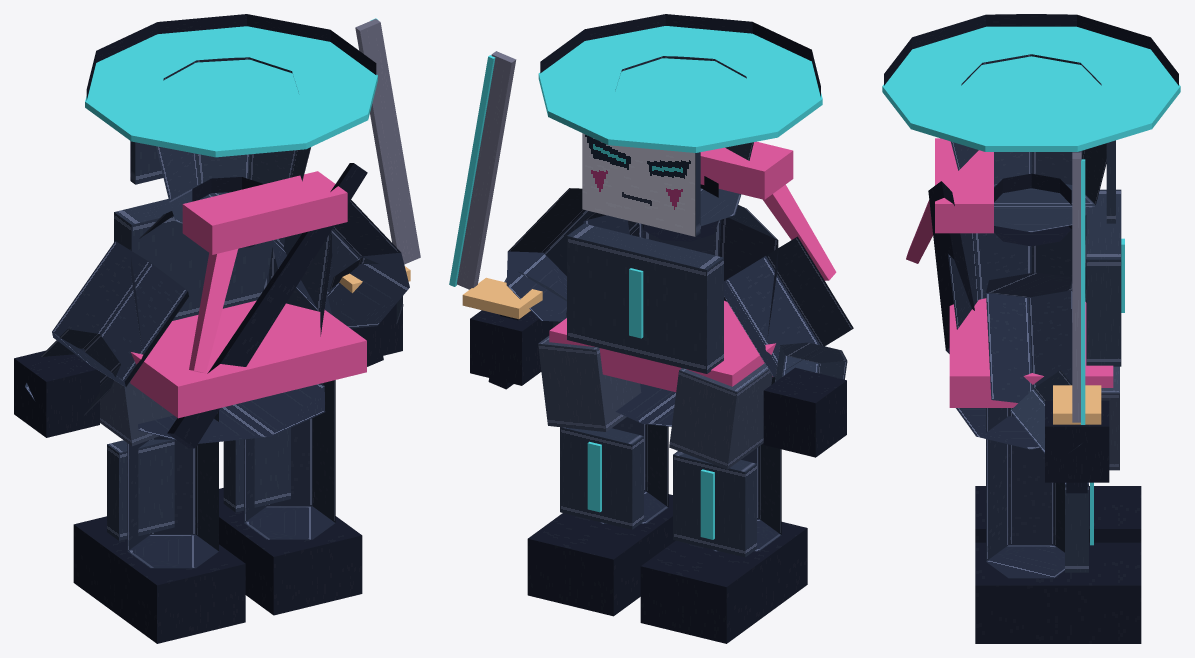
The model's file is cyber_ronin.glb.
3 views of the same model, side by side, from view 1: azimuth 30°, elevation 25°; view 2: azimuth 150°, elevation 25°; view 3: azimuth 270°, elevation 25° (orthographic). The views are drawn at different scales.
Parts seen in each view (by area): view 1: Head_neon_hat_rim, Root_belt, Leg_L_boot, Leg_R_boot, Arm_L, Head_scarf, Leg_L, Leg_R, Root_chest_plate, Root_tunic, Arm_R, Arm_L_hand (+12 smaller); view 2: Head_neon_hat_rim, Root_chest_plate, Leg_L_boot, Leg_R_boot, Arm_L, Head_painted_face, Root_skirt_plate, Leg_R_shin, Leg_L_shin, Root_skirt_plate.001, Arm_L_hand, Root_tunic (+17 smaller); view 3: Head_neon_hat_rim, Leg_R_boot, Leg_R, Arm_R, Root_tunic, Head_helmet, Root_chest_plate, Root_belt, Head_scarf, Arm_R_hand, Head_kasa, Leg_L_boot (+10 smaller).
Part boxes in pixels (x1,y1,x2,y2): Head_neon_hat_rim: (85,26,377,157); Root_belt: (130,300,366,418); Leg_L_boot: (73,516,245,643); Leg_R_boot: (219,488,362,615); Arm_L: (52,241,188,387); Head_scarf: (182,171,347,254); Leg_L: (127,411,218,568); Leg_R: (244,380,335,539); Root_chest_plate: (114,199,272,320); Root_tunic: (130,211,332,443); Arm_R: (271,200,409,328); Arm_L_hand: (14,350,99,437); Head_neon_hat_rim: (538,26,822,152); Root_chest_plate: (567,223,723,373); Leg_L_boot: (640,522,807,643); Leg_R_boot: (527,494,675,616); Arm_L: (724,236,853,377); Head_painted_face: (582,133,695,236); Root_skirt_plate: (669,363,772,469); Leg_R_shin: (560,427,643,529); Leg_L_shin: (673,451,756,557); Root_skirt_plate.001: (538,336,641,431); Arm_L_hand: (763,367,846,457); Root_tunic: (583,205,778,426); Head_neon_hat_rim: (882,26,1180,151); Leg_R_boot: (975,542,1141,643); Leg_R: (986,408,1064,578); Arm_R: (986,272,1072,402); Root_tunic: (948,215,1086,449); Head_helmet: (950,54,1106,232); Root_chest_plate: (1086,189,1121,366); Root_belt: (949,298,1113,407); Head_scarf: (935,138,993,233); Arm_R_hand: (1045,400,1109,482); Head_kasa: (884,14,1178,85); Leg_L_boot: (975,486,1141,542).
Size of the model in its own units: 1.69 by 2.36 by 1.11.
Materials: 1 (1 with a texture image).
